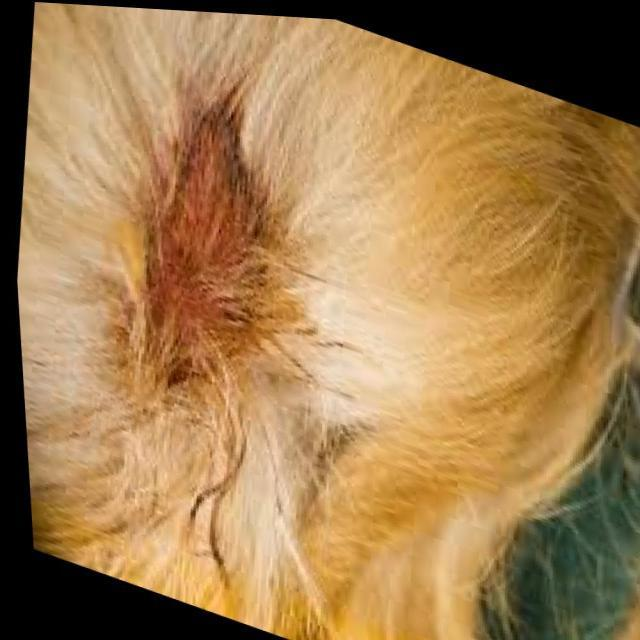hac lao: (79, 60, 372, 466)
